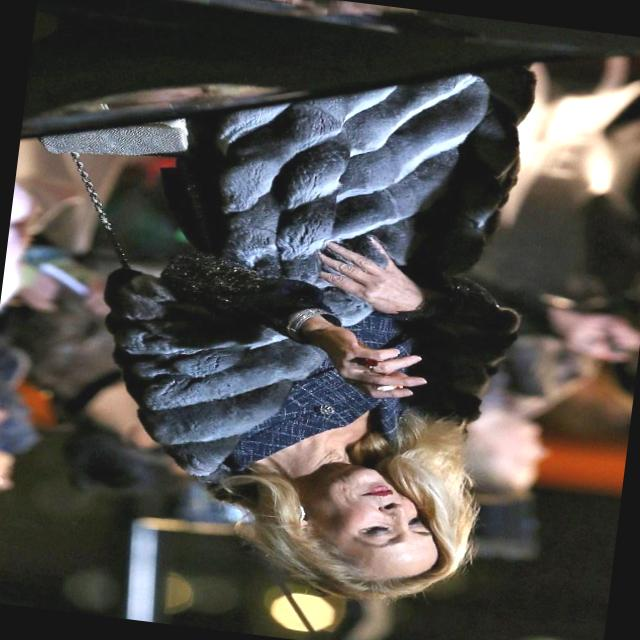cigarette: (340, 371, 428, 405)
